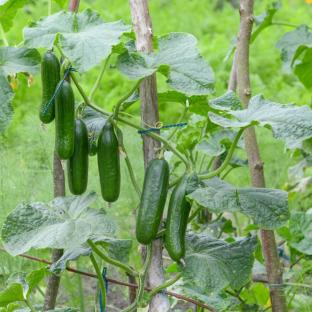Cucumber: (136, 159, 169, 244), (166, 175, 190, 261), (98, 123, 120, 202), (67, 119, 88, 195), (39, 52, 60, 123), (55, 81, 74, 159)
